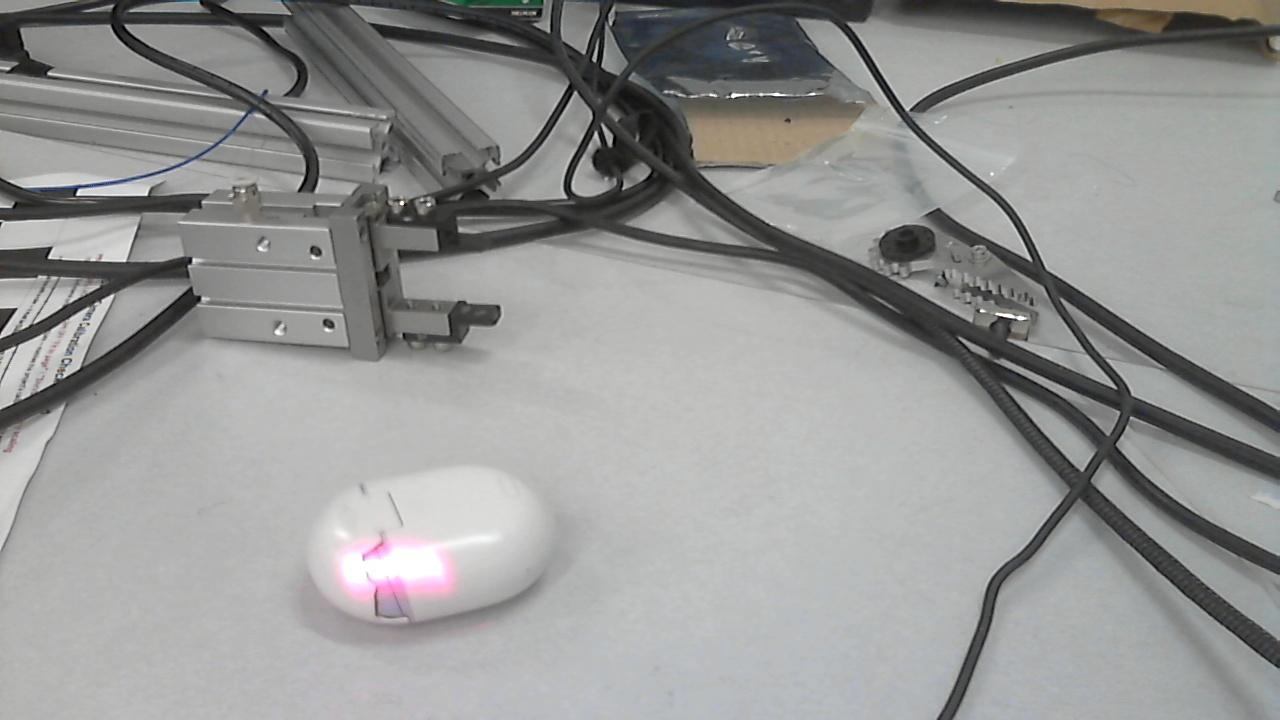Object wireless earbud charging case - Material plastic - Pdfname qzJIPQkli2jB: (300, 540, 464, 605)
